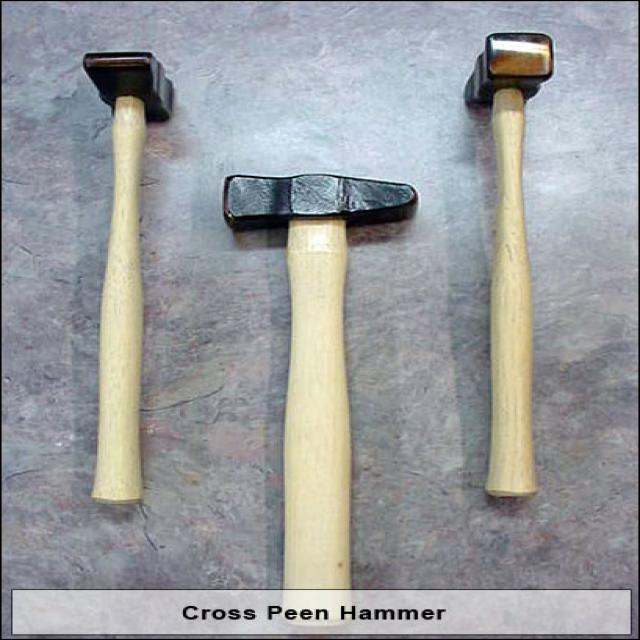hammer: (207, 164, 422, 596), (62, 45, 186, 512), (448, 23, 564, 515)
